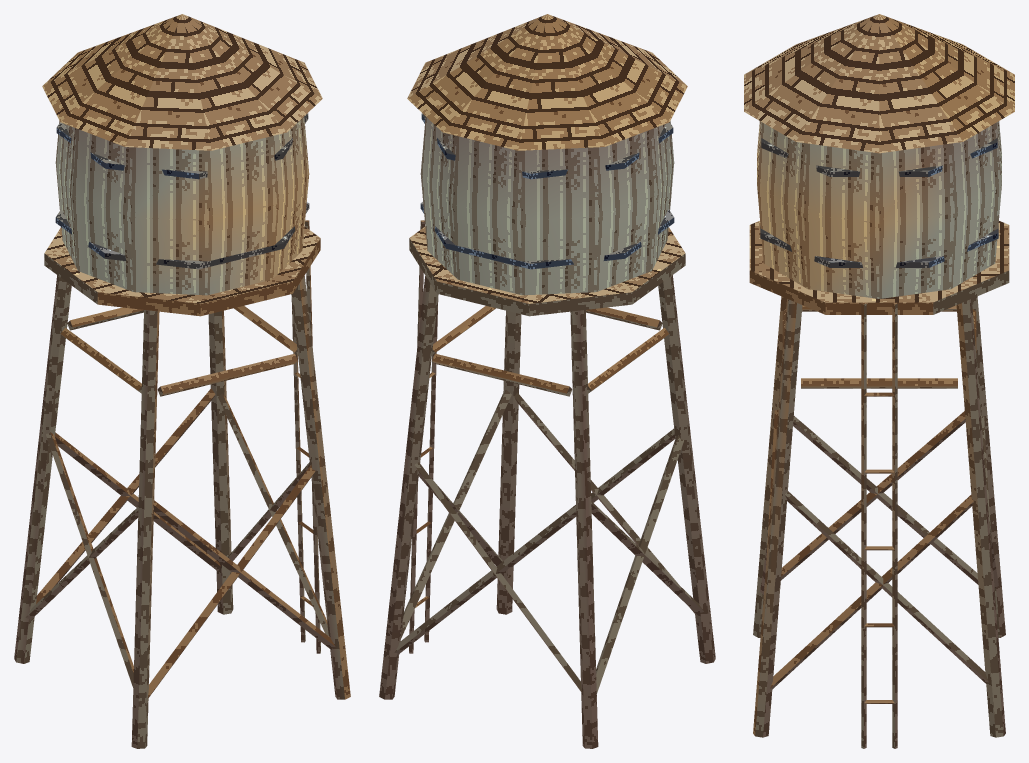
The model's file is wtown.water_tower__tall.glb.
3 views of the same model, side by side, from view 1: azimuth 30°, elevation 25°; view 2: azimuth 150°, elevation 25°; view 3: azimuth 270°, elevation 25° (orthographic).
Parts seen in each view (by area): view 1: kit_tank, kit_cap, kit_legs, kit_bracing_x, kit_bracing, kit_deck, kit_girts, kit_hoops, kit_ladder; view 2: kit_tank, kit_cap, kit_legs, kit_bracing_x, kit_bracing, kit_deck, kit_girts, kit_hoops, kit_ladder; view 3: kit_tank, kit_cap, kit_legs, kit_deck, kit_ladder, kit_bracing_x, kit_bracing, kit_hoops, kit_girts, kit_rungs.
Boxes of the visible parts, left/top/right/bottom form: kit_tank: left=55, top=116, right=309, bottom=295; kit_cap: left=42, top=14, right=322, bottom=150; kit_legs: left=14, top=275, right=350, bottom=748; kit_bracing_x: left=36, top=388, right=335, bottom=687; kit_bracing: left=26, top=393, right=328, bottom=698; kit_deck: left=44, top=226, right=320, bottom=316; kit_girts: left=60, top=306, right=297, bottom=396; kit_hoops: left=55, top=113, right=309, bottom=269; kit_ladder: left=291, top=220, right=320, bottom=653; kit_tank: left=420, top=116, right=674, bottom=295; kit_cap: left=407, top=14, right=687, bottom=150; kit_legs: left=379, top=275, right=715, bottom=748; kit_bracing_x: left=401, top=389, right=703, bottom=692; kit_bracing: left=394, top=392, right=694, bottom=693; kit_deck: left=409, top=226, right=685, bottom=316; kit_girts: left=432, top=306, right=669, bottom=396; kit_hoops: left=420, top=113, right=674, bottom=269; kit_ladder: left=409, top=220, right=438, bottom=653; kit_tank: left=757, top=121, right=1001, bottom=298; kit_cap: left=744, top=14, right=1014, bottom=153; kit_legs: left=753, top=296, right=1005, bottom=737; kit_deck: left=749, top=221, right=1009, bottom=314; kit_ladder: left=861, top=302, right=897, bottom=748; kit_bracing_x: left=766, top=410, right=998, bottom=683; kit_bracing: left=760, top=415, right=991, bottom=689; kit_hoops: left=760, top=138, right=998, bottom=267; kit_girts: left=782, top=305, right=976, bottom=388; kit_rungs: left=864, top=392, right=894, bottom=703.
Bounding box in the file's own units: 4.72 × 11.86 × 4.34.
Materials: 5 (5 with a texture image).
